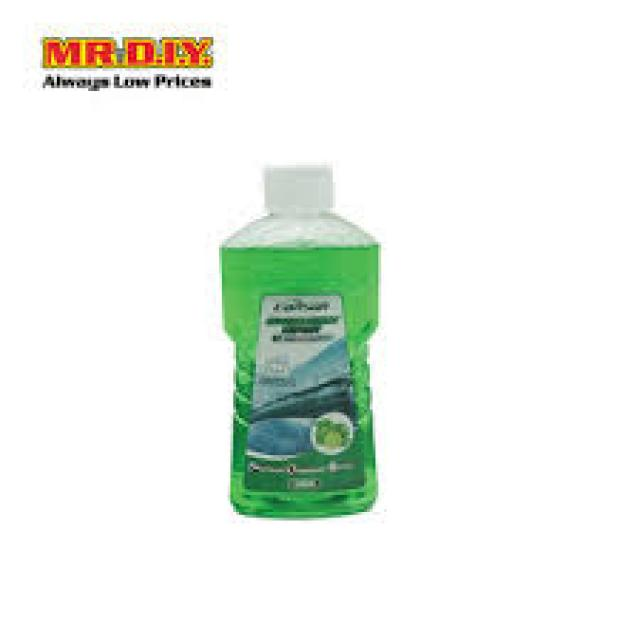winwinshield_washer: (217, 158, 383, 522)
